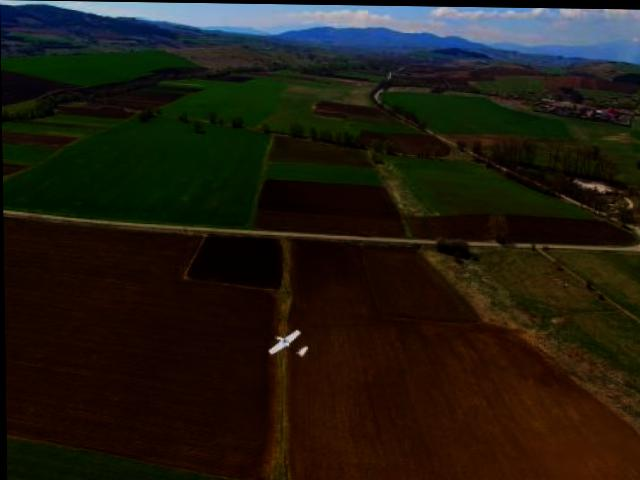uav: (259, 316, 314, 366)
